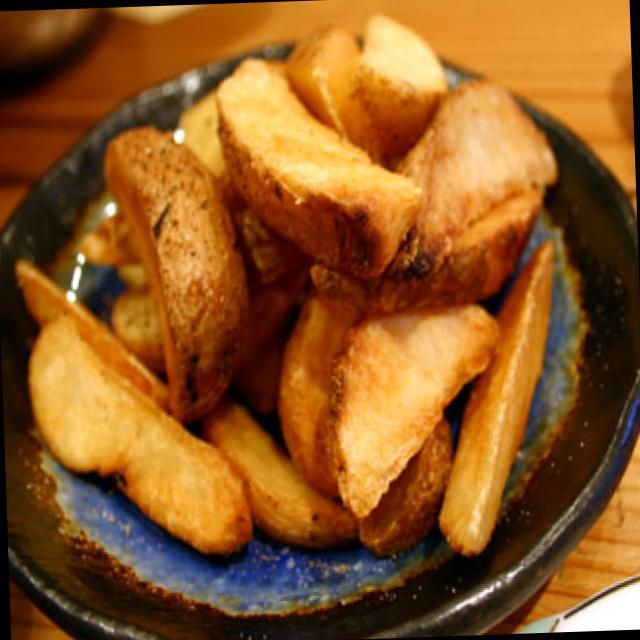French Fries: (29, 36, 564, 542)
